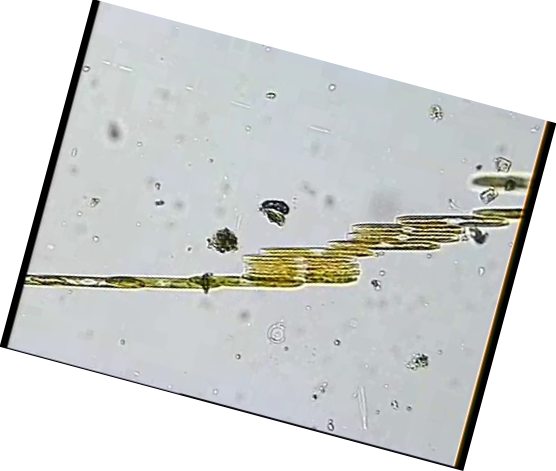Bacillaria: (246, 272, 359, 278), (246, 265, 359, 271), (245, 255, 358, 261), (255, 246, 368, 252), (341, 233, 454, 239), (344, 223, 457, 229)
